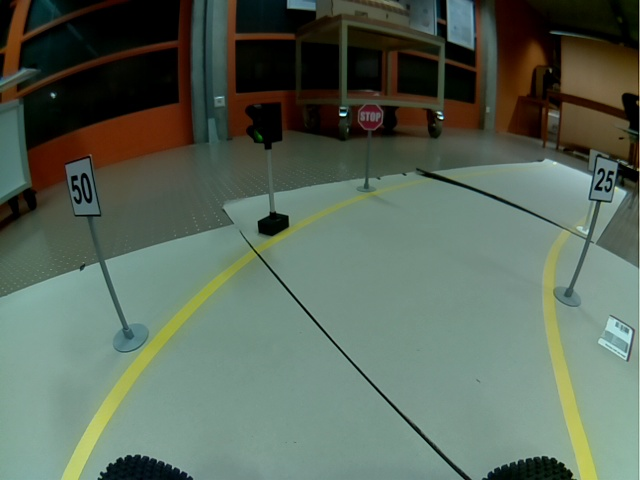speed25: (588, 156, 618, 203)
speed50: (64, 155, 102, 217)
stop: (358, 103, 384, 130)
trafficLightGreen: (245, 102, 282, 144)
